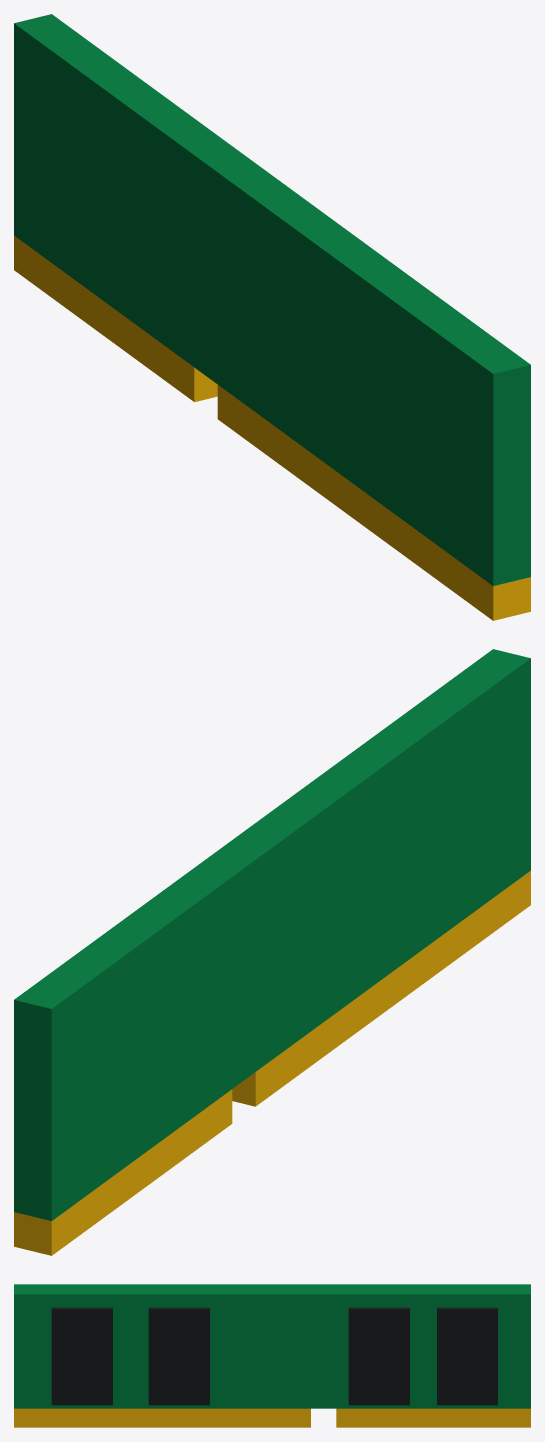
File: RAM.fbx
The picture shows the model from 3 angles, top to bottom: view 1: azimuth 30°, elevation 25°; view 2: azimuth 150°, elevation 25°; view 3: azimuth 270°, elevation 25°; orthographic projection. The views are drawn at different scales.
Visible parts, largest first — view 1: Cube.004; view 2: Cube.004; view 3: Cube.004.
Boxes of the visible parts, x1,y1,x2,y2 form: Cube.004: (14,14,530,620); Cube.004: (14,649,530,1255); Cube.004: (14,1284,530,1427).
Bounding box in the file's own units: 10.74 × 56.84 × 200.
